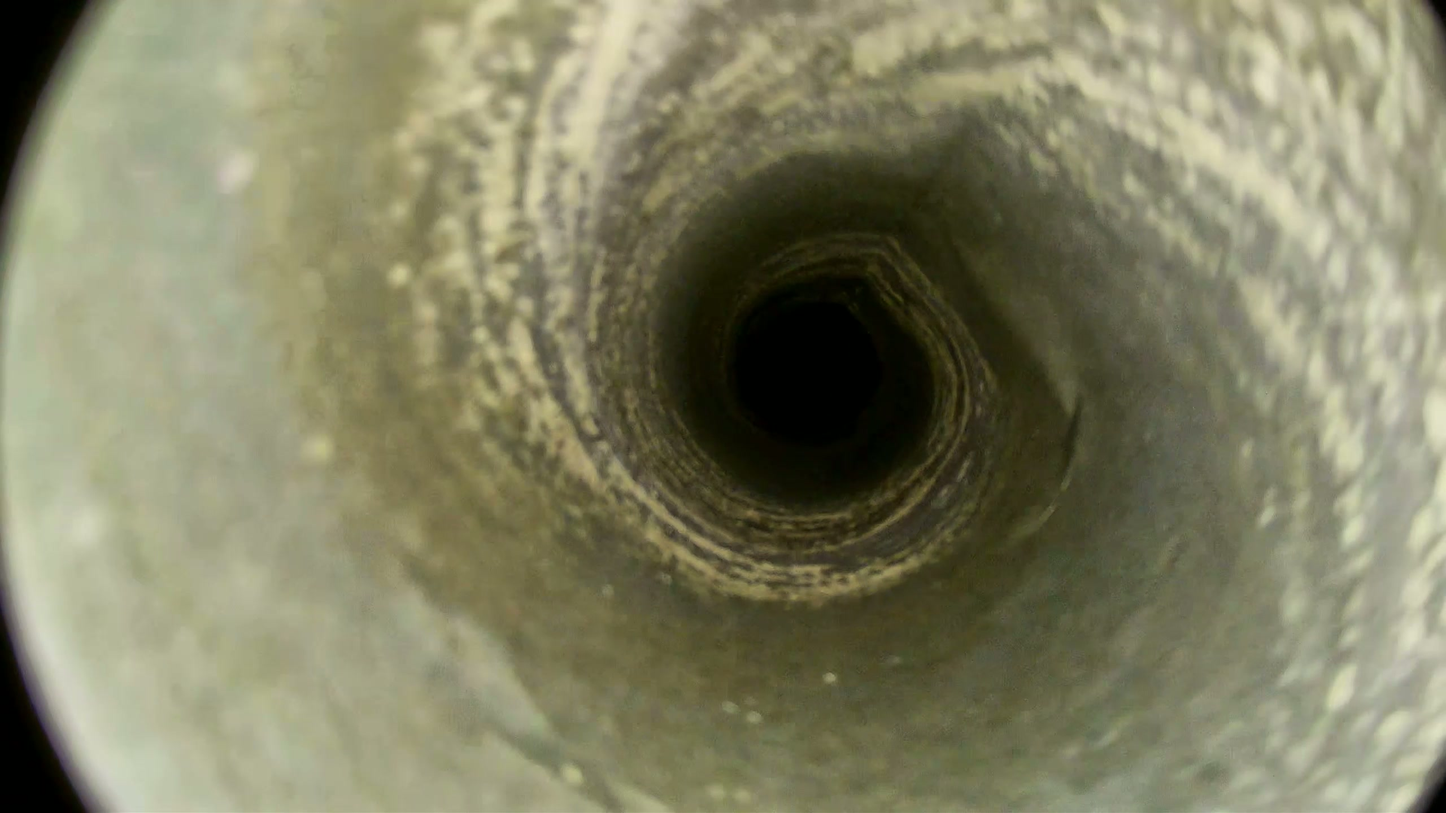hole: (740, 298, 879, 436)
